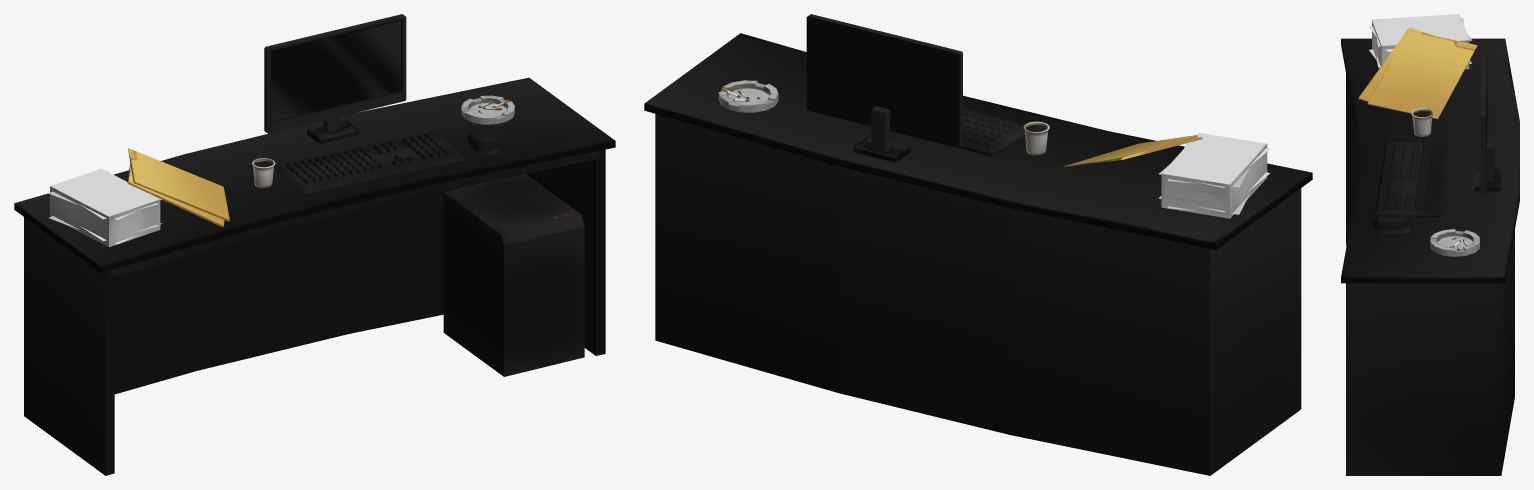
File: DESK.fbx
3 renders of one model, left to right at view 1: azimuth 30°, elevation 25°; view 2: azimuth 150°, elevation 25°; view 3: azimuth 270°, elevation 25°, orthographic. The views are drawn at different scales.
Parts seen in each view (by area): view 1: Object001; view 2: Object001; view 3: Object001.
Boxes of the visible parts, x1,y1,x2,y2 form: Object001: [14, 14, 615, 475]; Object001: [644, 14, 1312, 475]; Object001: [1341, 14, 1519, 475].
Size of the model in its own units: 158 by 93.4 by 50.24.
